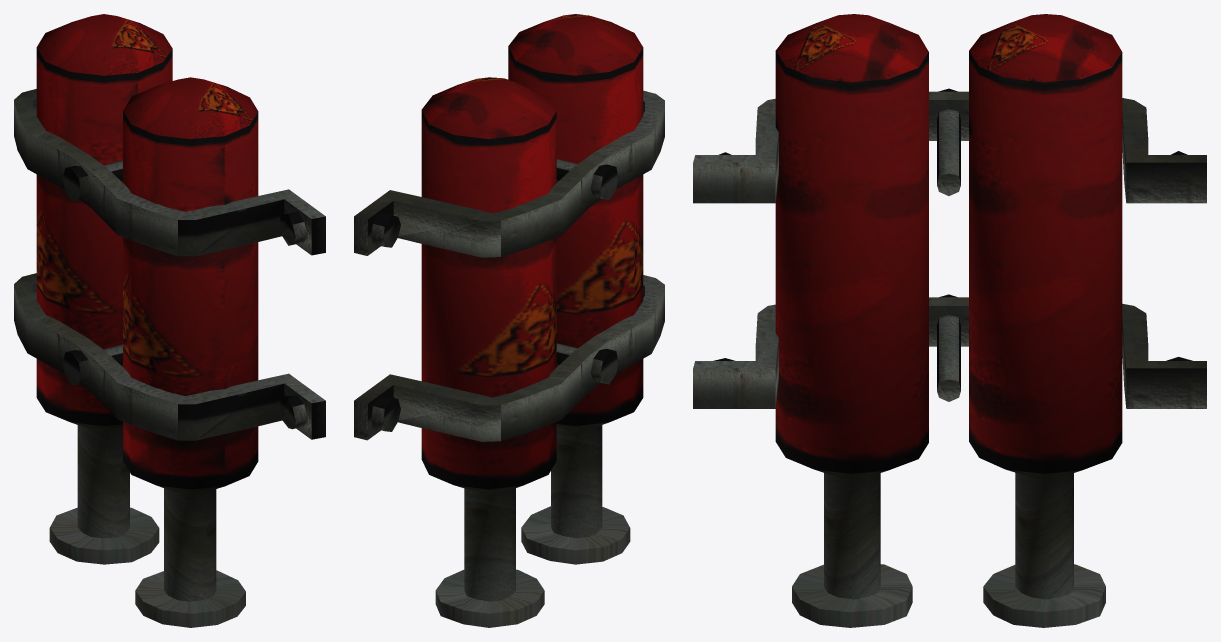
File: tank.obj
The picture shows the model from 3 angles, left to right: view 1: azimuth 30°, elevation 25°; view 2: azimuth 150°, elevation 25°; view 3: azimuth 270°, elevation 25°; orthographic projection. The views are drawn at different scales.
Visible parts, largest first — view 1: Group; view 2: Group; view 3: Group.
Boxes of the visible parts, x1=… form: Group: x1=14, y1=14, x2=325, y2=627; Group: x1=354, y1=14, x2=664, y2=627; Group: x1=693, y1=14, x2=1206, y2=627.
Bounding box in the file's own units: 29.5 × 101 × 81.72.
